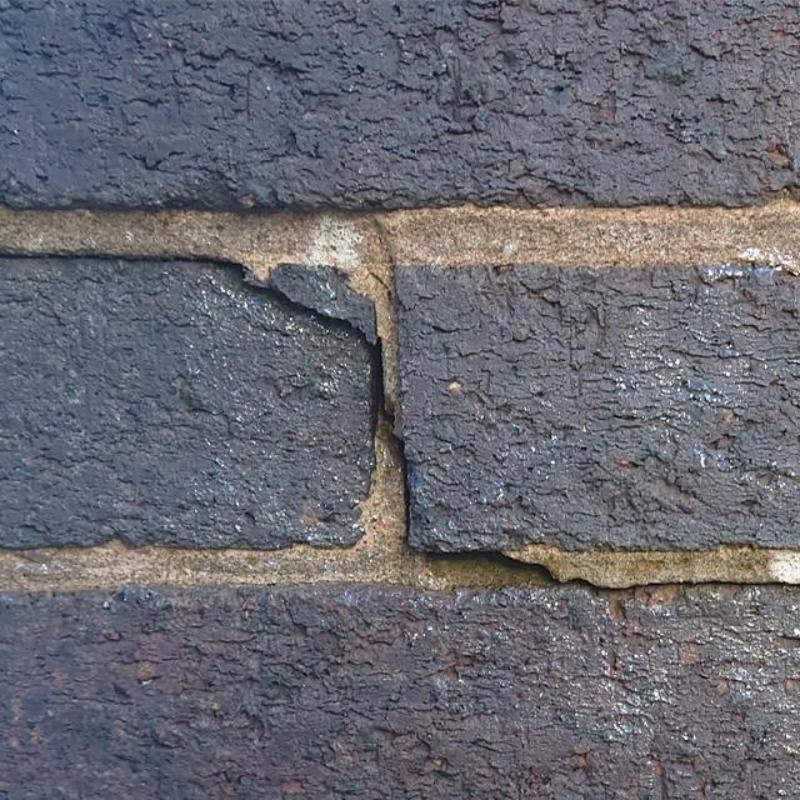pothole: (131, 256, 403, 470), (427, 552, 609, 590), (609, 579, 799, 592), (0, 252, 130, 260), (403, 471, 410, 542)
